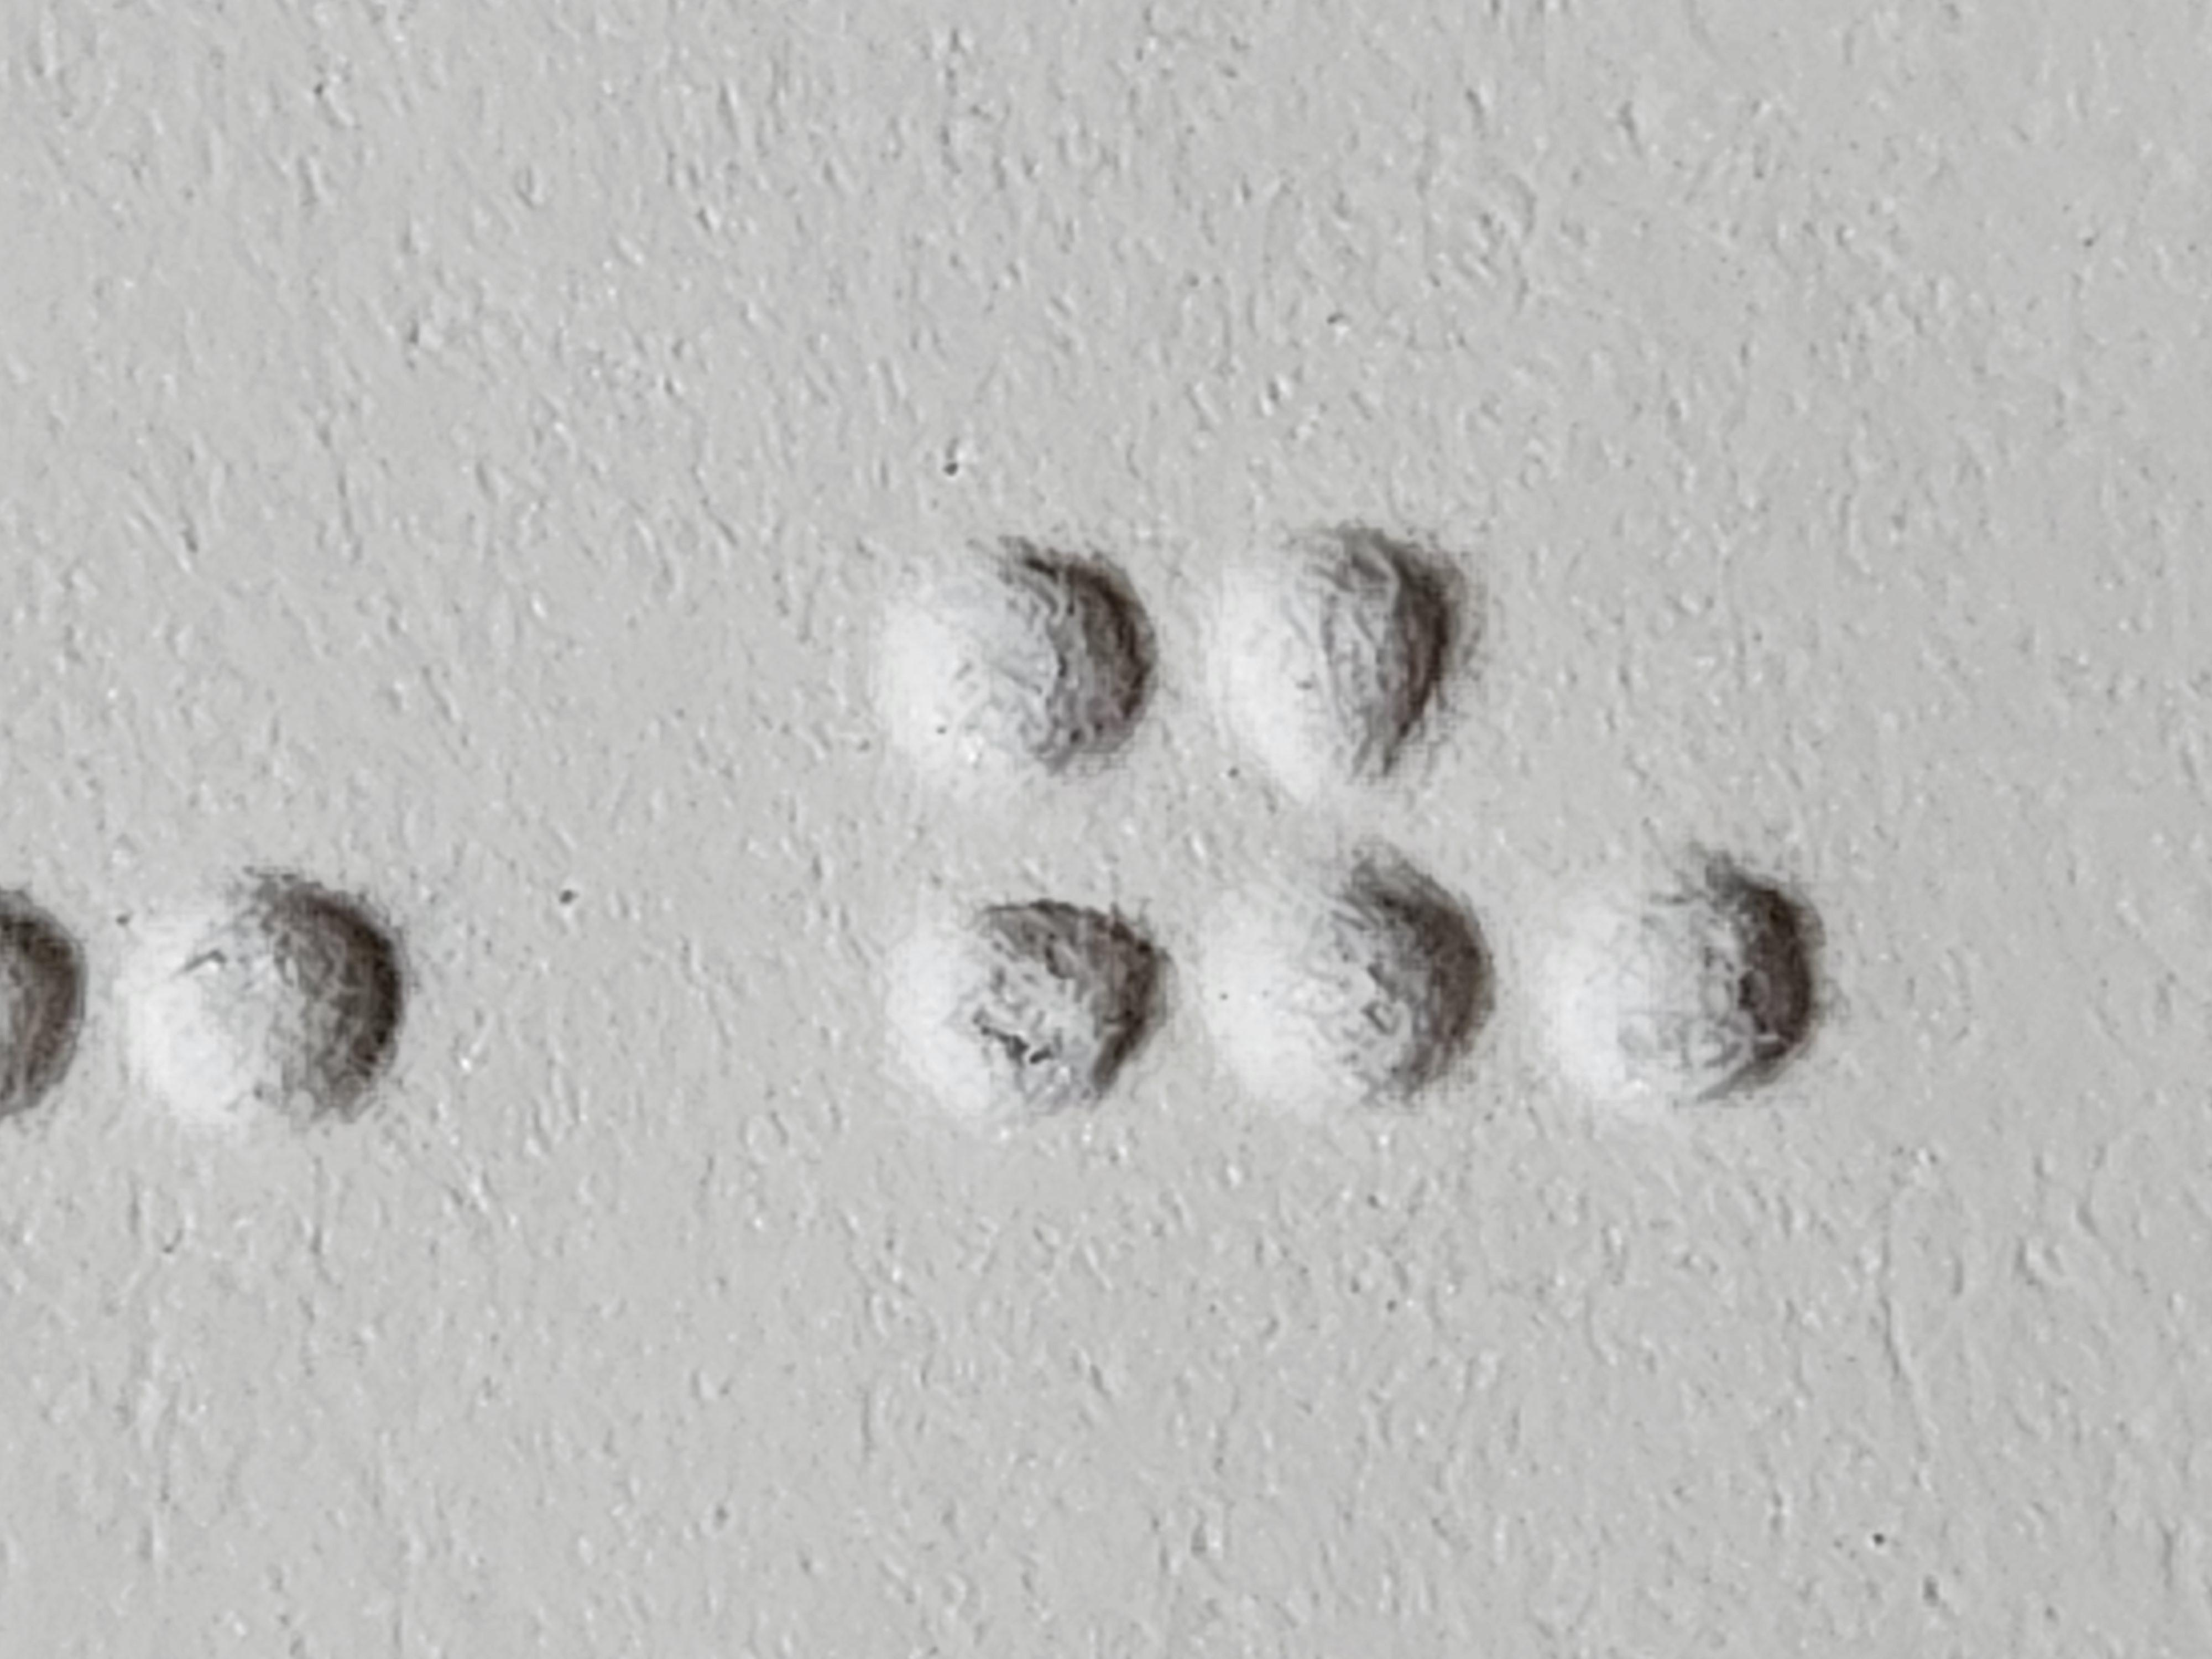one_cell_alphabet_kailan: (709, 660, 1505, 1359)
